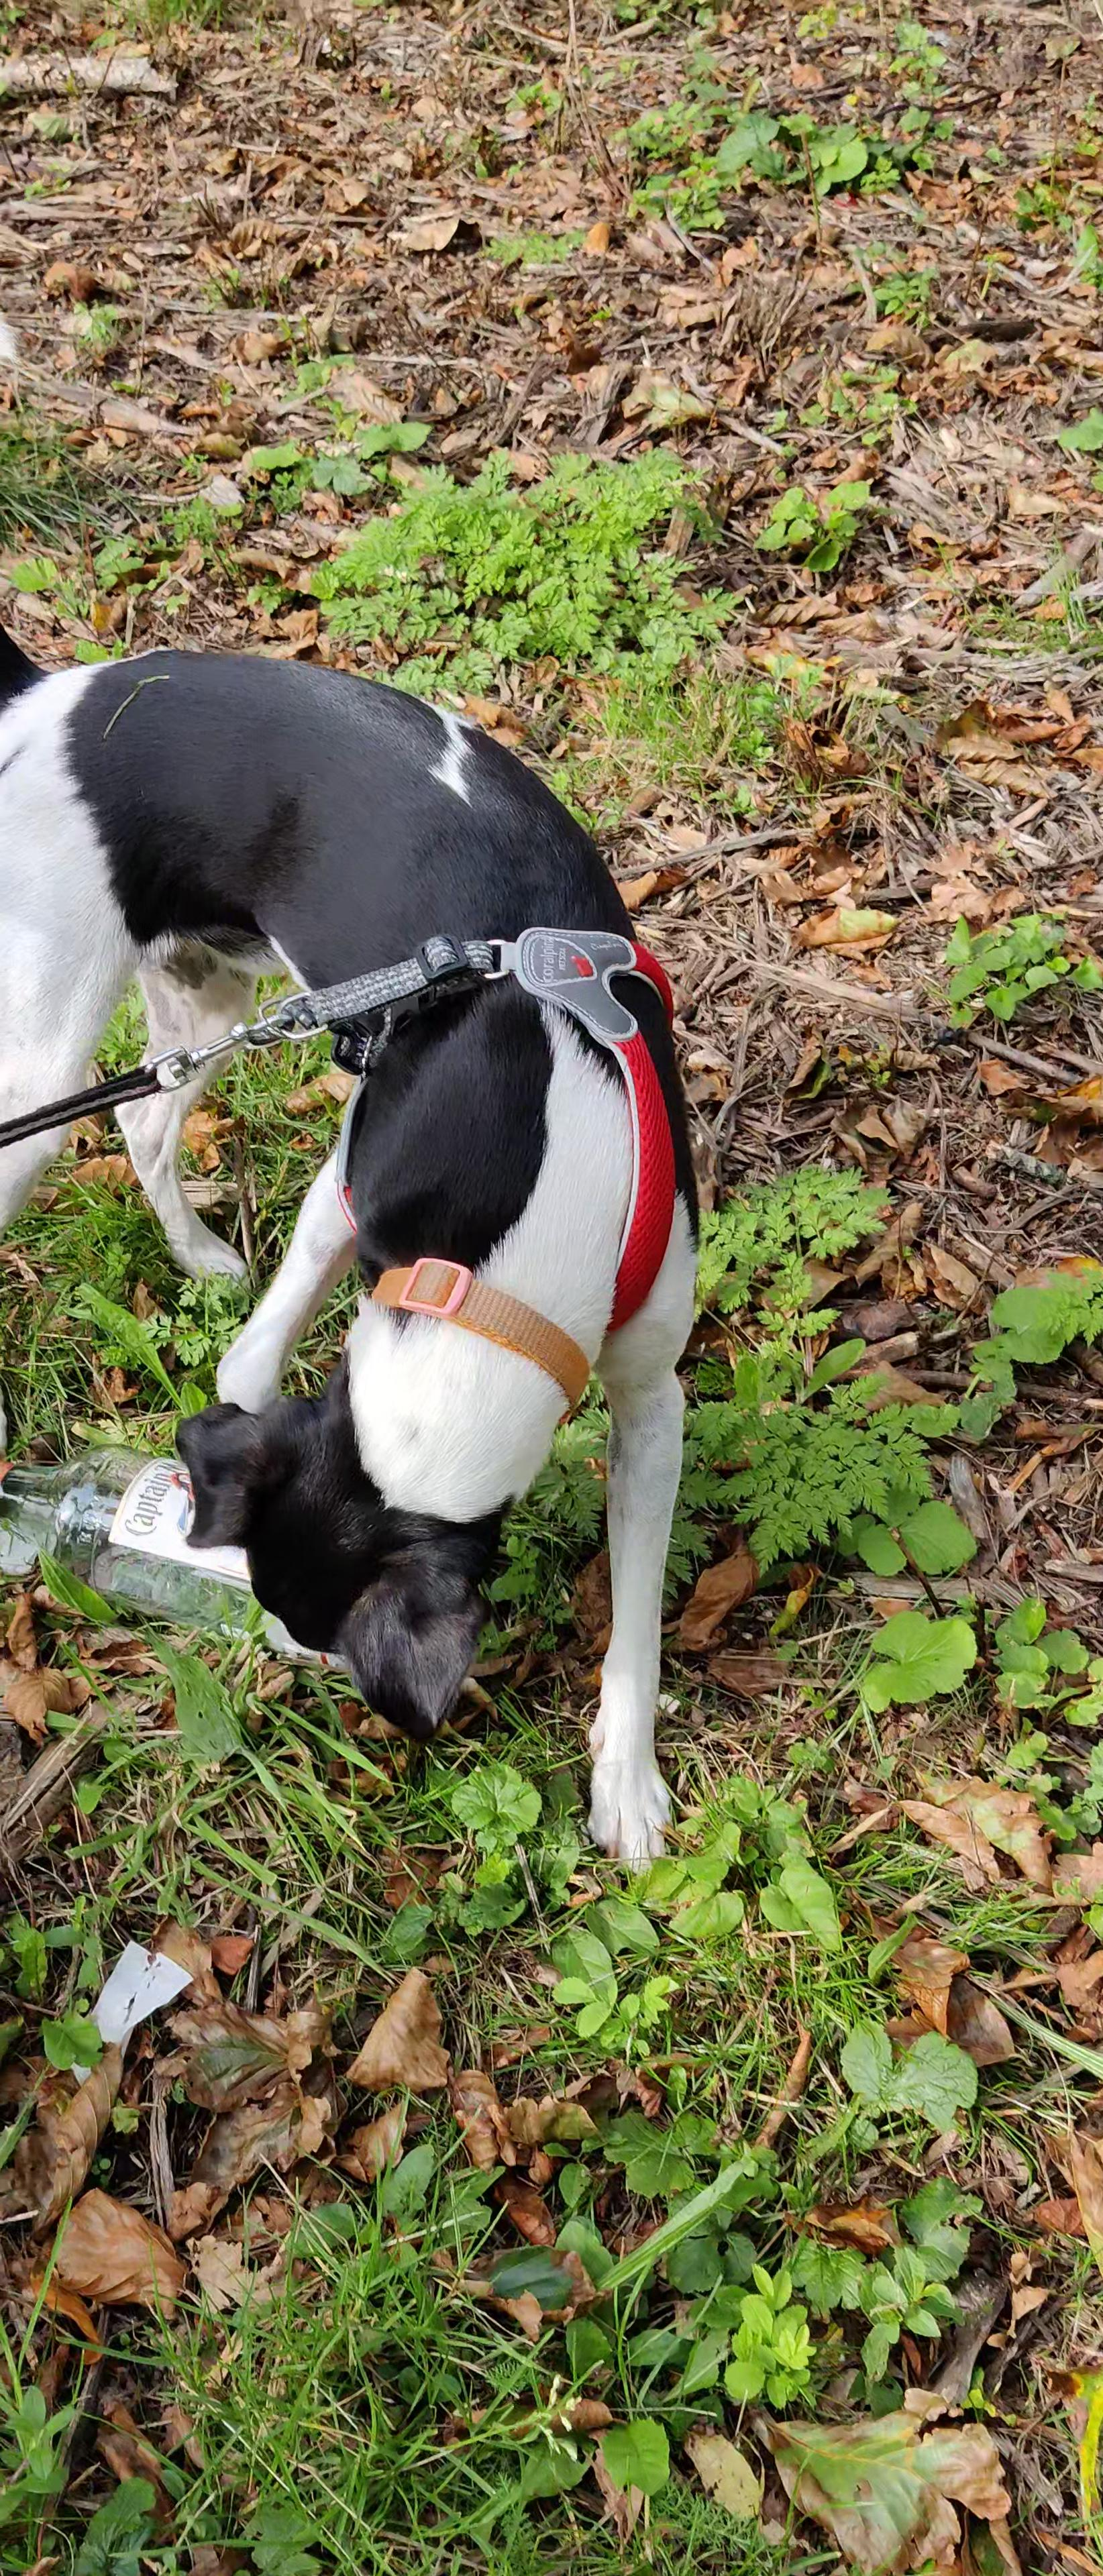Dog: (0, 573, 715, 1888)
